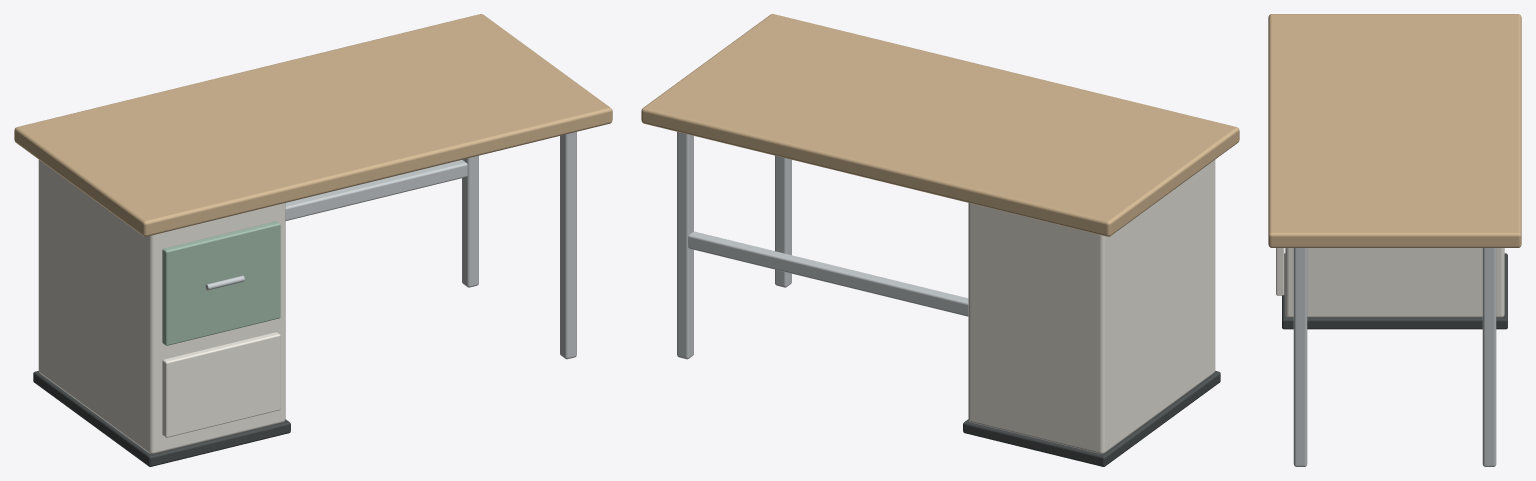
Rendered from hearing-aid-and-audiology-clinic-acoustic-fitting-desk-9bb71b15__31761.glb.
The picture shows the model from 3 angles, left to right: view 1: azimuth 30°, elevation 25°; view 2: azimuth 150°, elevation 25°; view 3: azimuth 270°, elevation 25°; orthographic projection. The views are drawn at different scales.
Parts seen in each view (by area): view 1: acoustic-fitting-desk; view 2: acoustic-fitting-desk; view 3: acoustic-fitting-desk.
Part boxes in pixels (x1,y1,x2,y2): acoustic-fitting-desk: (14,14,612,466); acoustic-fitting-desk: (641,14,1239,466); acoustic-fitting-desk: (1268,14,1521,466).
Bounding box in the file's own units: 1.55 × 0.8 × 0.7499.
